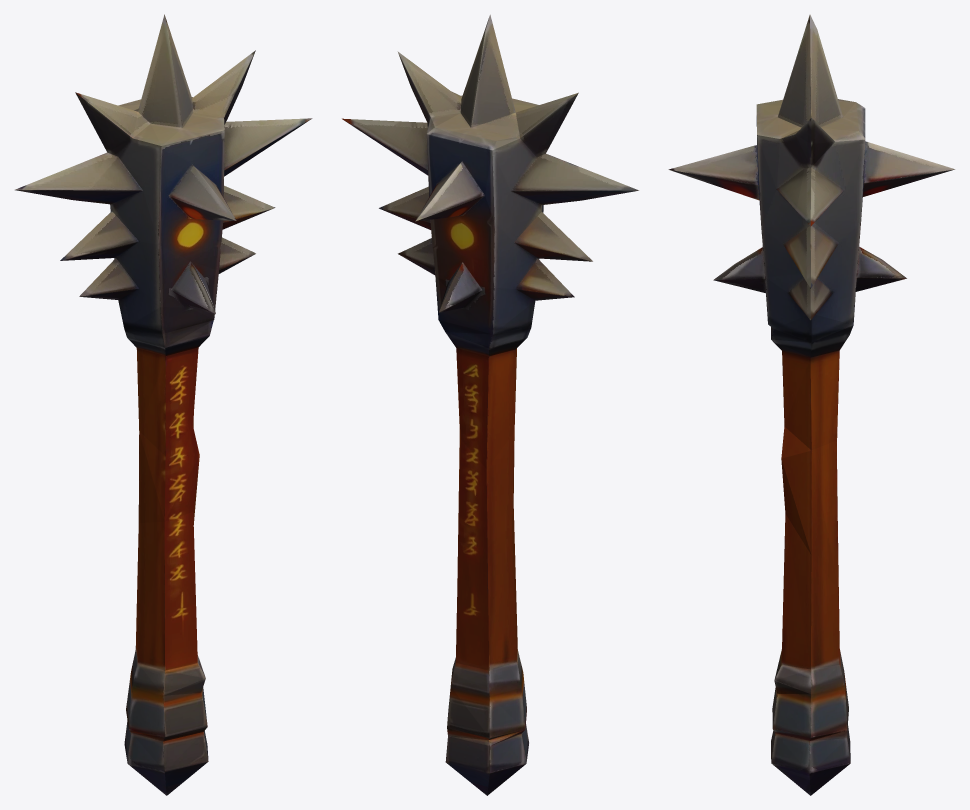
File: mace_war_hammer_1.glb
3 renders of one model, left to right at view 1: azimuth 30°, elevation 25°; view 2: azimuth 150°, elevation 25°; view 3: azimuth 270°, elevation 25°, orthographic.
Visible parts, largest first — view 1: TexturedMesh_.obj; view 2: TexturedMesh_.obj; view 3: TexturedMesh_.obj.
Boxes of the visible parts, <box> form: TexturedMesh_.obj: <box>15,14,312,795</box>; TexturedMesh_.obj: <box>342,14,638,795</box>; TexturedMesh_.obj: <box>668,14,954,795</box>.
Bounding box in the file's own units: 0.7922 × 1.99 × 0.6624.
1 material, 1 textured.
